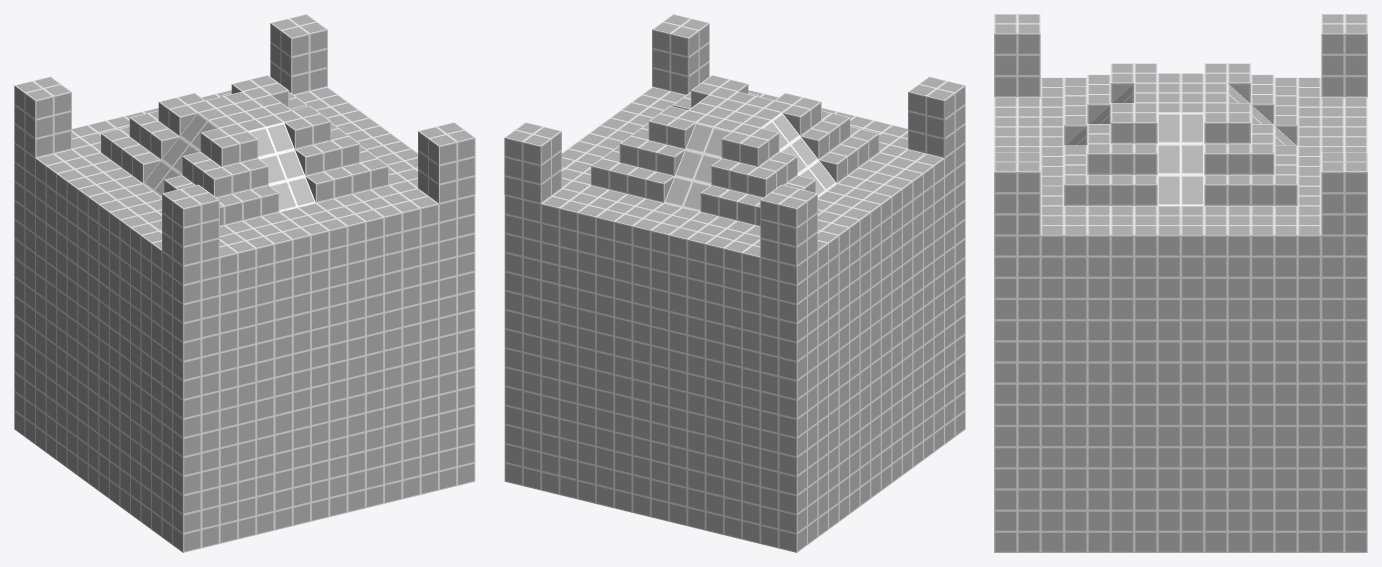
The model's file is map.glb.
The picture shows the model from 3 angles, left to right: view 1: azimuth 30°, elevation 25°; view 2: azimuth 150°, elevation 25°; view 3: azimuth 270°, elevation 25°; orthographic projection. The views are drawn at different scales.
Parts seen in each view (by area): view 1: Cube.253, Cube.223, Cube.009, Cube.095, Cube.1009, Cube.1020, Cube.1497, Cube.1491, Cube.1013, Cube.1452, Cube.085, Cube.600 (+51 smaller); view 2: Cube.224, Cube.254, Cube.096, Cube.010, Cube.979, Cube.1019, Cube.1515, Cube.1509, Cube.983, Cube.1455, Cube.067, Cube.250 (+51 smaller); view 3: Cube.925, Cube.1014, Cube.1474, Cube.1480, Cube.923, Cube.927, Cube.933, Cube.939, Cube.240, Cube.255, Cube.990, Cube.1008 (+282 smaller).
Part boxes in pixels (bbox=[...]): Cube.253: bbox=[280, 26, 309, 57]; Cube.223: bbox=[428, 134, 457, 165]; Cube.009: bbox=[172, 197, 201, 227]; Cube.095: bbox=[25, 88, 53, 119]; Cube.1009: bbox=[211, 136, 239, 166]; Cube.1020: bbox=[203, 167, 232, 197]; Cube.1497: bbox=[305, 172, 334, 202]; Cube.1491: bbox=[295, 145, 323, 175]; Cube.1013: bbox=[284, 118, 312, 149]; Cube.1452: bbox=[150, 128, 179, 159]; Cube.085: bbox=[172, 507, 201, 533]; Cube.600: bbox=[172, 354, 201, 380]; Cube.224: bbox=[670, 26, 699, 57]; Cube.254: bbox=[522, 134, 551, 165]; Cube.096: bbox=[778, 197, 807, 227]; Cube.010: bbox=[926, 88, 954, 119]; Cube.979: bbox=[740, 136, 768, 166]; Cube.1019: bbox=[747, 167, 776, 197]; Cube.1515: bbox=[645, 171, 674, 202]; Cube.1509: bbox=[656, 145, 684, 175]; Cube.983: bbox=[667, 118, 695, 148]; Cube.1455: bbox=[800, 128, 829, 159]; Cube.067: bbox=[778, 526, 807, 552]; Cube.250: bbox=[522, 158, 551, 184]; Cube.925: bbox=[1110, 225, 1134, 256]; Cube.1014: bbox=[1110, 112, 1134, 143]; Cube.1474: bbox=[1110, 143, 1134, 174]; Cube.1480: bbox=[1110, 175, 1134, 205]; Cube.923: bbox=[1087, 225, 1110, 256]; Cube.927: bbox=[1134, 225, 1157, 256]; Cube.933: bbox=[1204, 225, 1227, 256]; Cube.939: bbox=[1274, 225, 1297, 256]; Cube.240: bbox=[1017, 162, 1040, 193]; Cube.255: bbox=[1321, 162, 1344, 193]; Cube.990: bbox=[1204, 112, 1227, 143]; Cube.1008: bbox=[1134, 112, 1157, 143].
Bounding box in the file's own units: 32 × 35.98 × 32.
1 material, 1 textured.
